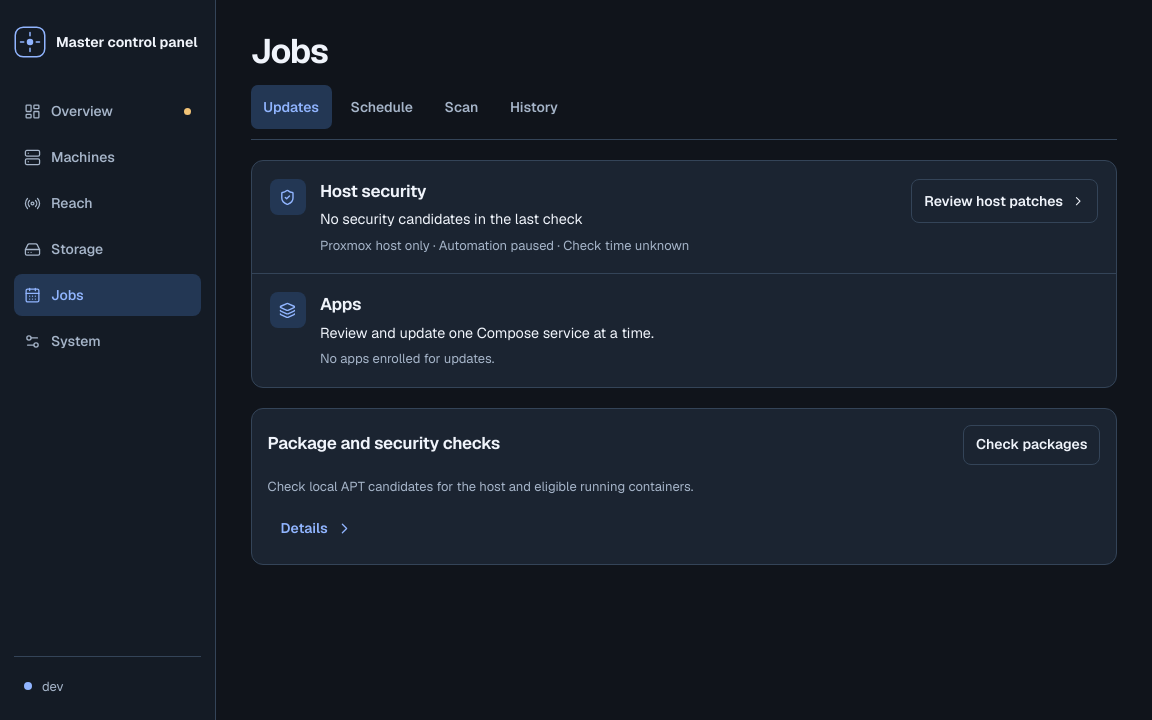
Test: redesigned workflows › shows the decision view by default and keeps risky operations behind review
Later steps or results of the test are not shown.
Click the button "Review host patches": click(1005, 201) [911,179,1098,223]
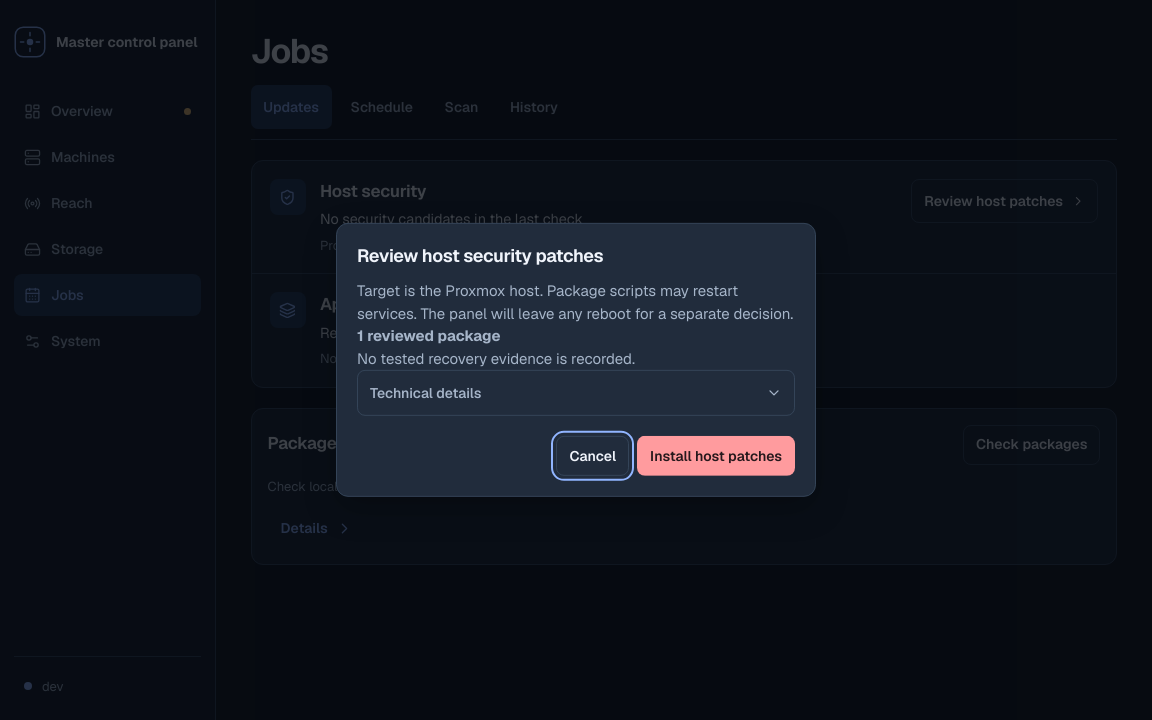
Result: the dialog shows "Target is the Proxmox host" at [357,281,793,323]
